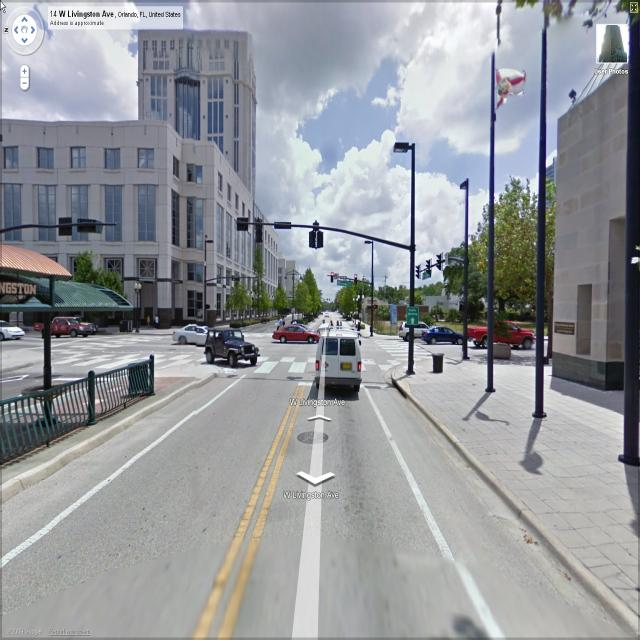b_1: (6, 115, 264, 324), (138, 29, 264, 193), (250, 209, 282, 303)
b_2: (1, 130, 286, 326), (552, 65, 632, 420)
